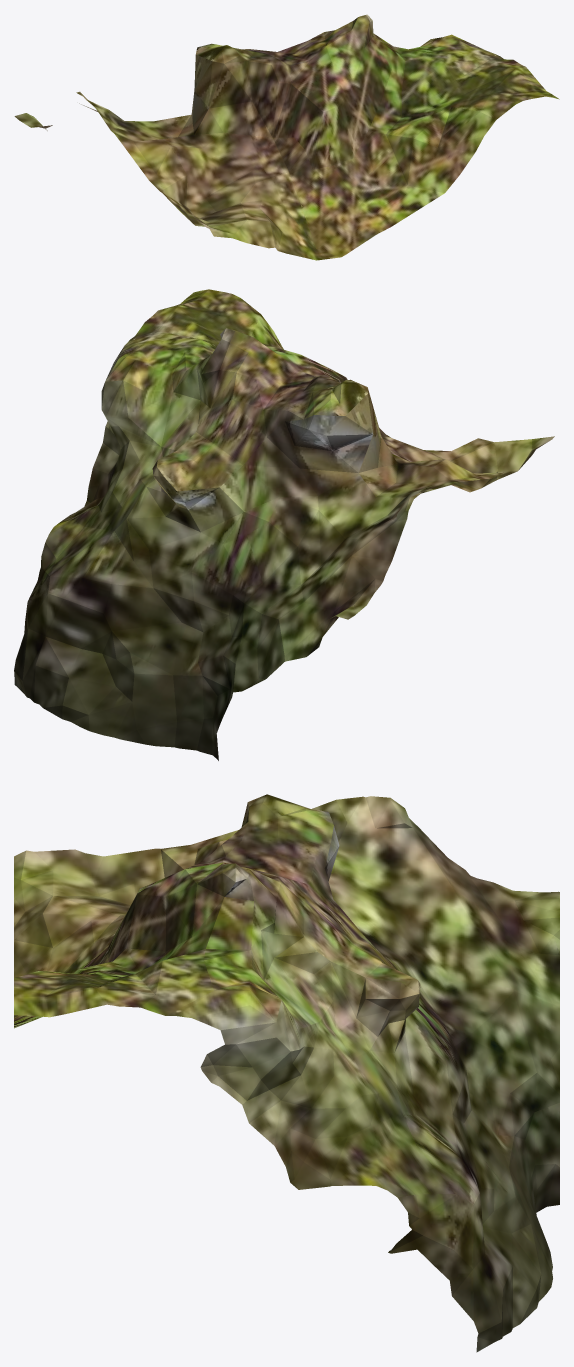
3 renders of one model, top to bottom at view 1: azimuth 30°, elevation 25°; view 2: azimuth 150°, elevation 25°; view 3: azimuth 270°, elevation 25°, orthographic. The views are drawn at different scales.
Size of the model in its own units: 0.8374 by 0.6929 by 0.8374.
3 materials, 3 textured.
